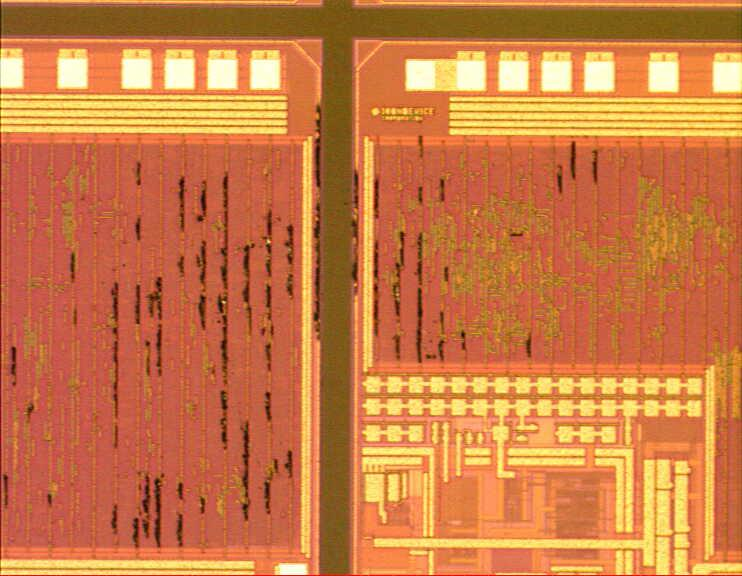SCRATCH: (1, 96, 614, 563)
